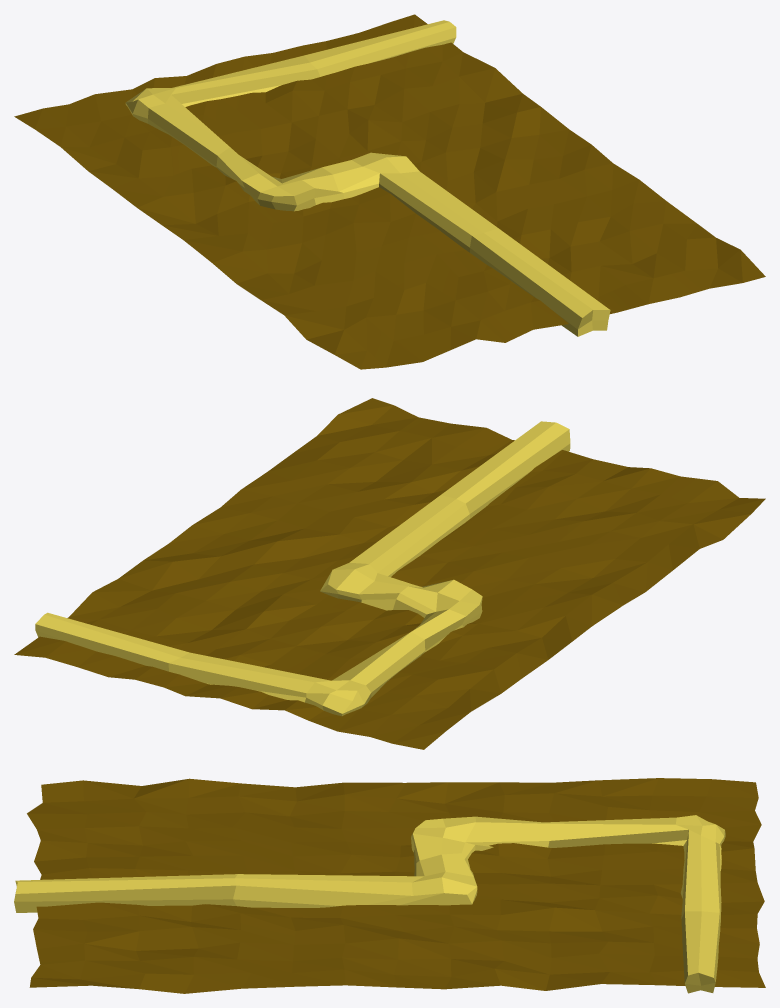
3 views of the same model, one above another, from view 1: azimuth 30°, elevation 25°; view 2: azimuth 150°, elevation 25°; view 3: azimuth 270°, elevation 25° (orthographic). The views are drawn at different scales.
Visible parts, largest first — view 1: Plane.001, Cube; view 2: Plane.001, Cube; view 3: Plane.001, Cube.
Boxes of the visible parts, x1,y1,x2,y2 form: Plane.001: (14, 14, 765, 369); Cube: (125, 20, 610, 336); Plane.001: (14, 398, 765, 749); Cube: (35, 421, 570, 716); Plane.001: (27, 778, 765, 993); Cube: (14, 815, 725, 993).
Bounding box in the file's own units: 4689 × 351 × 7123.
